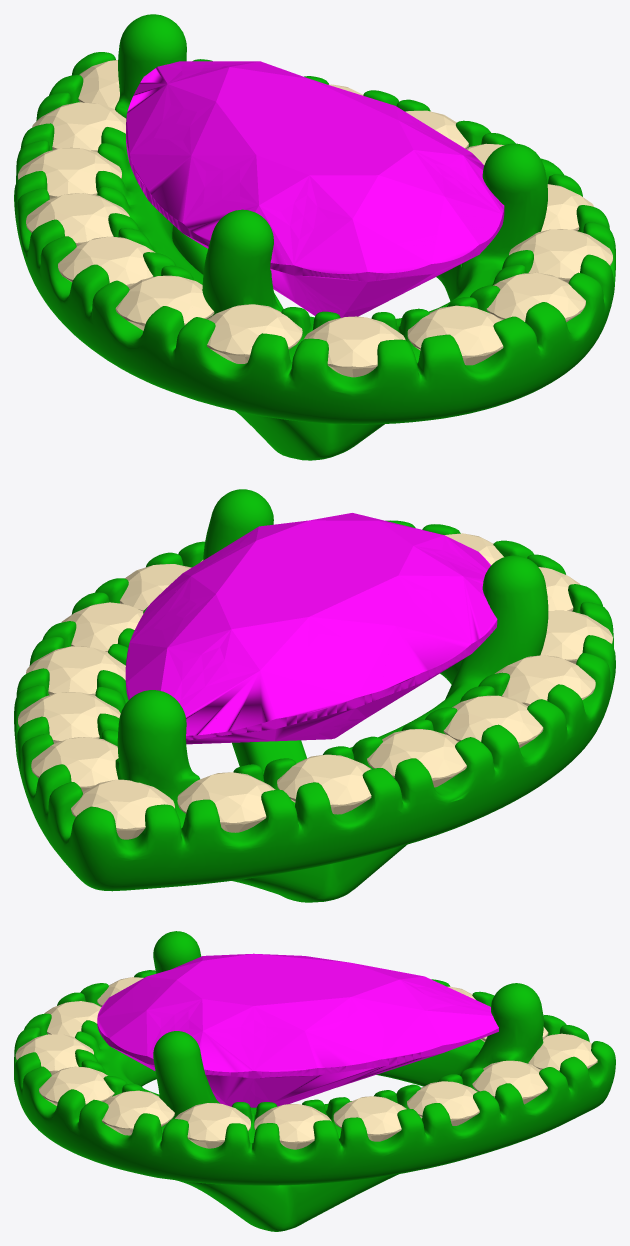
The picture shows the model from 3 angles, top to bottom: view 1: azimuth 30°, elevation 25°; view 2: azimuth 150°, elevation 25°; view 3: azimuth 270°, elevation 25°; orthographic projection. The views are drawn at different scales.
Parts seen in each view (by area): view 1: Metal01, Diamond_Pear, Diamond_Round.003, Diamond_Round.004, Diamond_Round.005, Diamond_Round.002, Diamond_Round.006, Diamond_Round, Diamond_Round.007, Diamond_Round.001, Diamond_Round.015, Diamond_Round.014 (+3 smaller); view 2: Metal01, Diamond_Pear, Diamond_Round.014, Diamond_Round.015, Diamond_Round, Diamond_Round.001, Diamond_Round.013, Diamond_Round.002, Diamond_Round.011, Diamond_Round.012, Diamond_Round.010, Diamond_Round.009 (+4 smaller); view 3: Metal01, Diamond_Pear, Diamond_Round.008, Diamond_Round.010, Diamond_Round.007, Diamond_Round.009, Diamond_Round.011, Diamond_Round.012, Diamond_Round.006, Diamond_Round.005, Diamond_Round.013, Diamond_Round.004 (+1 smaller).
Part boxes in pixels (x1=…): Metal01: x1=14, y1=14, x2=615, y2=460; Diamond_Pear: x1=126, y1=61, x2=504, y2=317; Diamond_Round.003: x1=207, y1=304, x2=302, y2=363; Diamond_Round.004: x1=304, y1=316, x2=405, y2=377; Diamond_Round.005: x1=407, y1=305, x2=503, y2=365; Diamond_Round.002: x1=115, y1=275, x2=214, y2=330; Diamond_Round.006: x1=486, y1=272, x2=585, y2=322; Diamond_Round: x1=26, y1=193, x2=129, y2=246; Diamond_Round.007: x1=509, y1=229, x2=612, y2=282; Diamond_Round.001: x1=58, y1=236, x2=155, y2=287; Diamond_Round.015: x1=18, y1=147, x2=121, y2=199; Diamond_Round.014: x1=32, y1=102, x2=126, y2=152; Metal01: x1=14, y1=489, x2=615, y2=902; Diamond_Pear: x1=125, y1=513, x2=497, y2=744; Diamond_Round.014: x1=177, y1=772, x2=275, y2=832; Diamond_Round.015: x1=277, y1=754, x2=371, y2=814; Diamond_Round: x1=367, y1=729, x2=466, y2=787; Diamond_Round.001: x1=443, y1=695, x2=543, y2=747; Diamond_Round.013: x1=71, y1=779, x2=174, y2=839; Diamond_Round.002: x1=495, y1=655, x2=595, y2=705; Diamond_Round.011: x1=18, y1=692, x2=120, y2=743; Diamond_Round.012: x1=31, y1=737, x2=118, y2=791; Diamond_Round.010: x1=26, y1=646, x2=125, y2=695; Diamond_Round.009: x1=61, y1=602, x2=143, y2=651; Metal01: x1=14, y1=931, x2=615, y2=1231; Diamond_Pear: x1=97, y1=953, x2=498, y2=1107; Diamond_Round.008: x1=175, y1=1103, x2=250, y2=1148; Diamond_Round.010: x1=333, y1=1096, x2=406, y2=1141; Diamond_Round.007: x1=102, y1=1090, x2=174, y2=1135; Diamond_Round.009: x1=254, y1=1104, x2=331, y2=1149; Diamond_Round.011: x1=407, y1=1081, x2=479, y2=1125; Diamond_Round.012: x1=472, y1=1060, x2=547, y2=1104; Diamond_Round.006: x1=39, y1=1066, x2=114, y2=1105; Diamond_Round.005: x1=15, y1=1034, x2=93, y2=1074; Diamond_Round.013: x1=528, y1=1033, x2=597, y2=1071; Diamond_Round.004: x1=44, y1=1001, x2=101, y2=1036.
Bounding box in the file's own units: 9.11 × 5.8 × 13.06.
